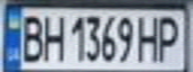1: (66, 12, 84, 62)
3: (81, 11, 103, 62)
6: (100, 12, 121, 63)
9: (115, 12, 139, 63)
B: (15, 10, 45, 63)
H: (39, 11, 66, 63), (136, 12, 163, 63)
P: (154, 12, 187, 63)
